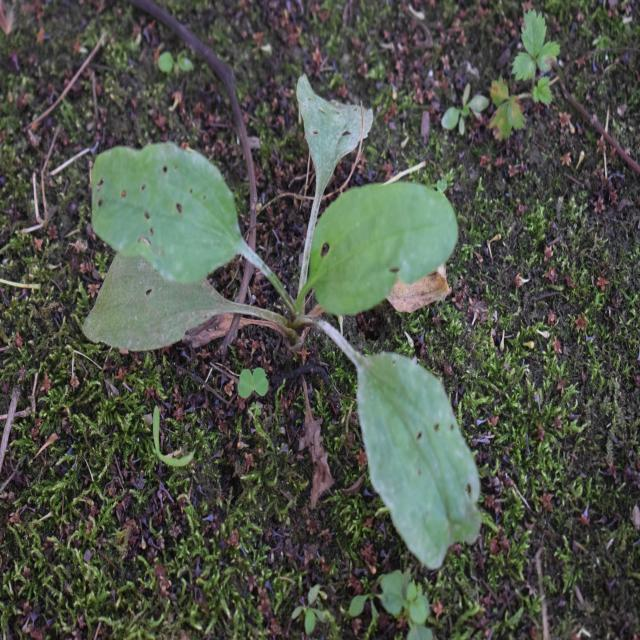plantain: (120, 119, 486, 553)
